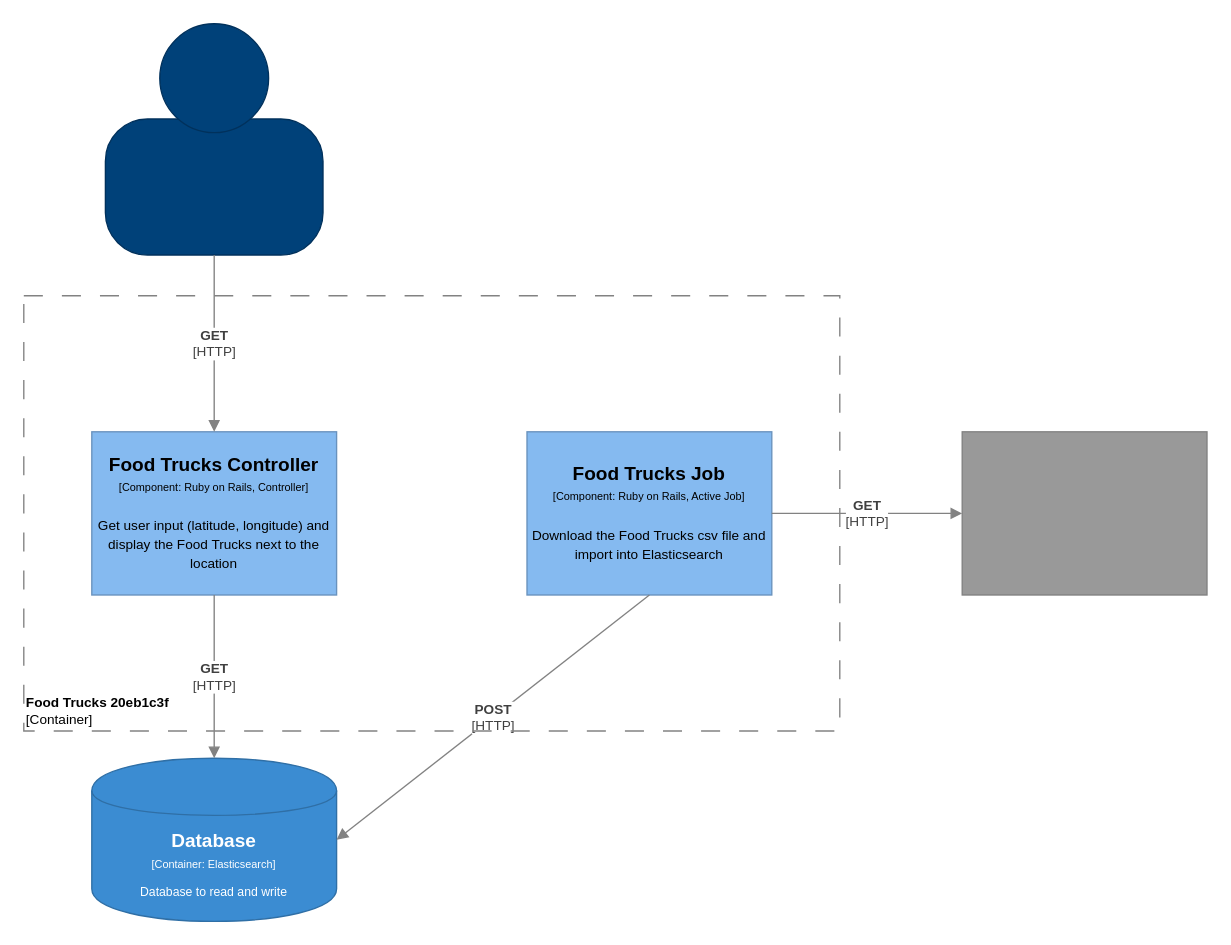
The diagram is 1231 pixels wide and 945 high, and some of its shapes have lost their labels. The centre of each missing label's shape, as x and y in pixels:
Data SF [Software System ] Mobile Food Facility CSV file: (x=1084, y=512)
User [Person] Someone looking for nearby Food Trucks: (x=213, y=186)
